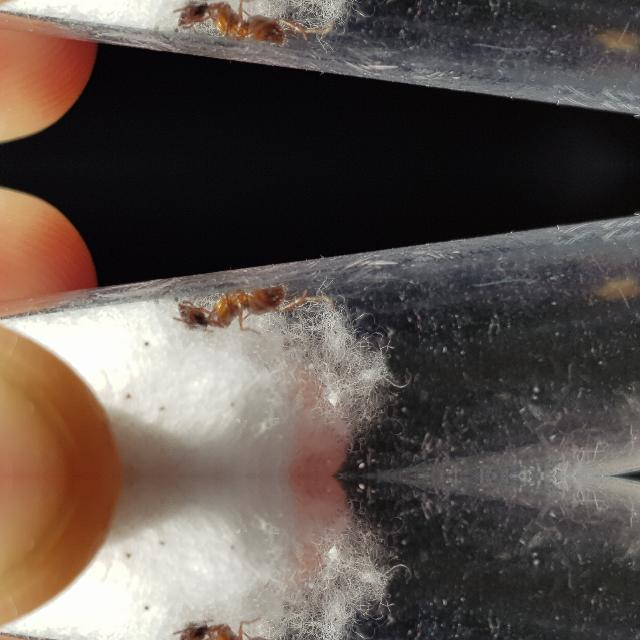Camponotus: (172, 278, 340, 332), (172, 0, 340, 50), (172, 616, 340, 640)
